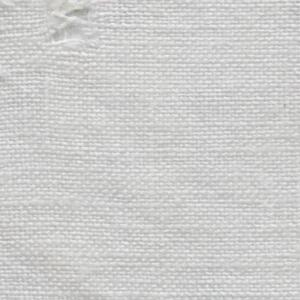Damage: (28, 1, 110, 53)
